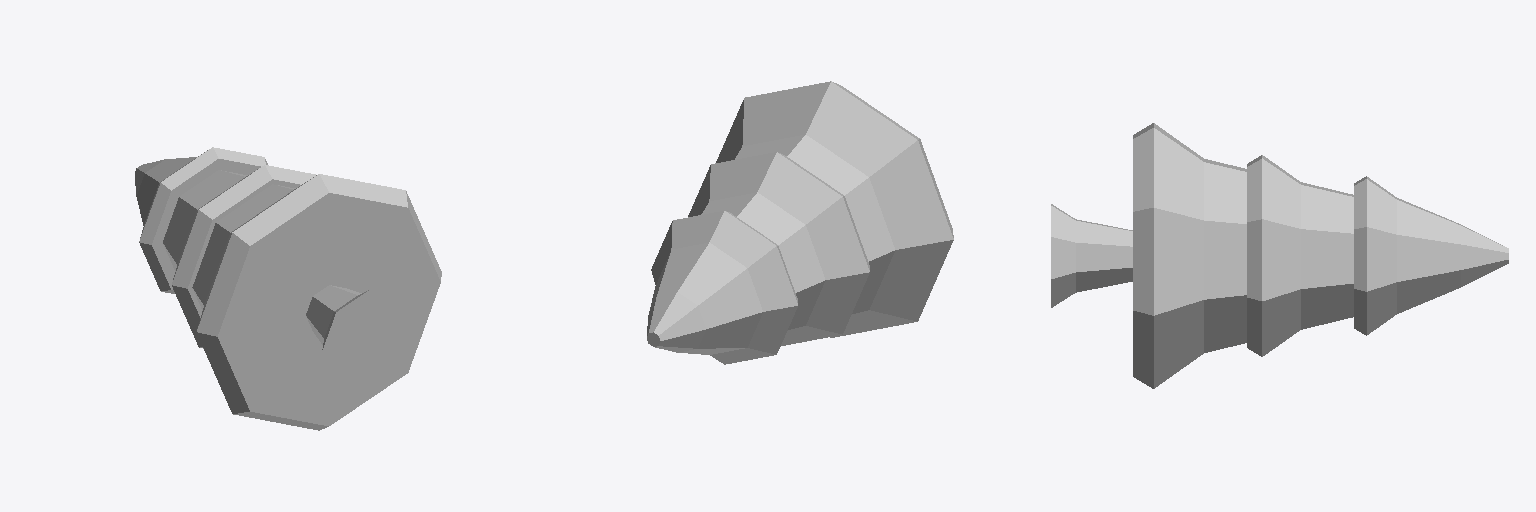
File: tree.obj
3 views of the same model, side by side, from view 1: azimuth 30°, elevation 25°; view 2: azimuth 150°, elevation 25°; view 3: azimuth 270°, elevation 25° (orthographic).
Parts seen in each view (by area): view 1: tree; view 2: tree; view 3: tree.
Boxes of the visible parts, x1,y1,x2,y2 form: tree: [135, 147, 441, 430]; tree: [647, 81, 953, 364]; tree: [1051, 123, 1508, 388].
Size of the model in its own units: 1.19 by 1.19 by 1.92.